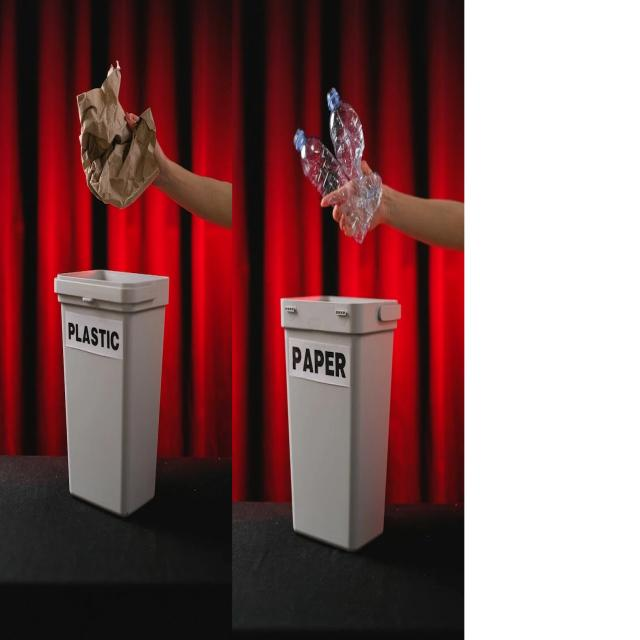Paper: (77, 70, 160, 205)
Plastic: (290, 116, 375, 252), (325, 82, 385, 221)
